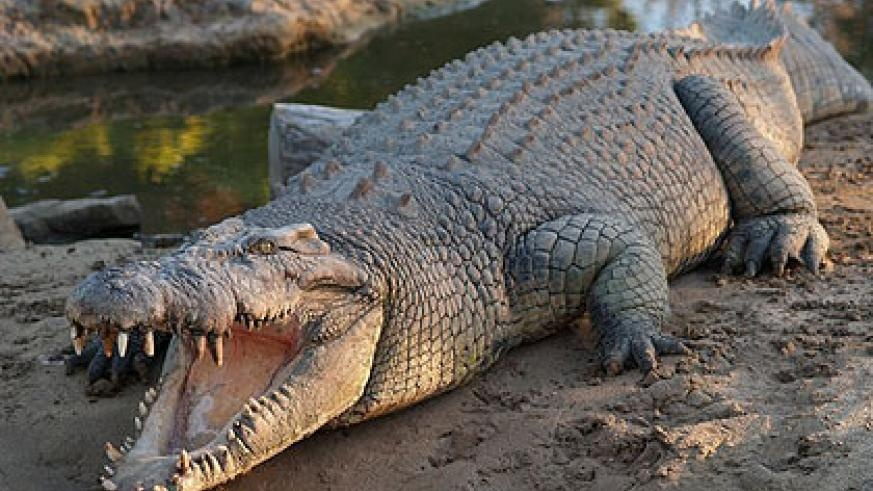crocodile: (51, 0, 873, 490)
